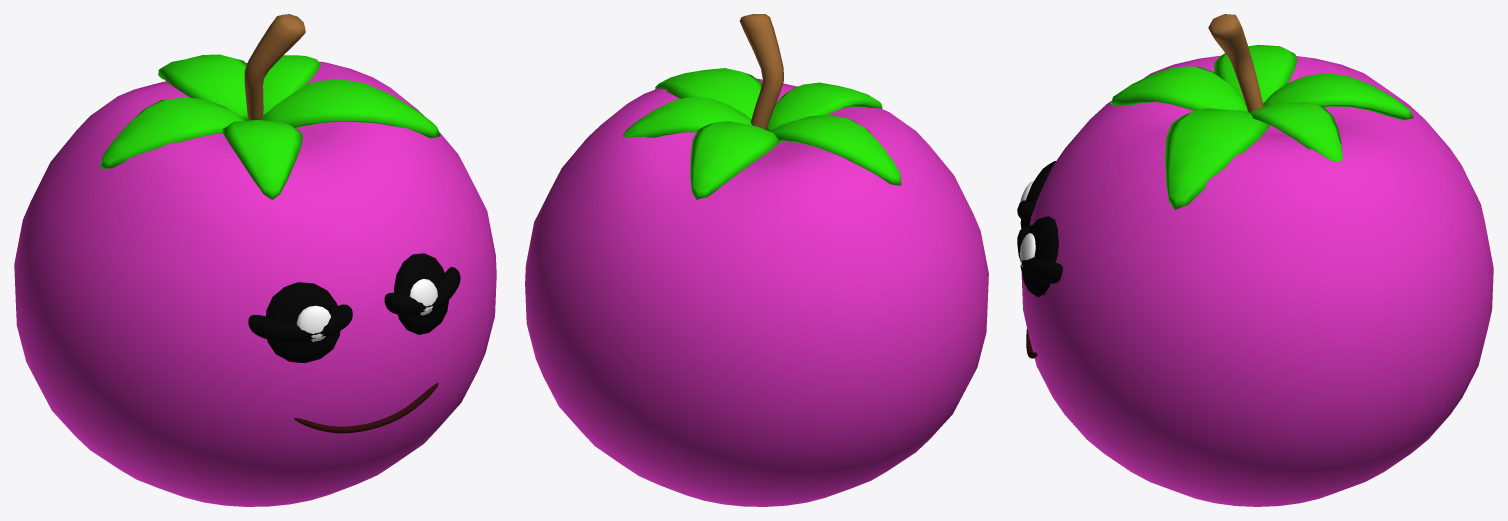
Rendered from Nar.fbx.
3 views of the same model, side by side, from view 1: azimuth 30°, elevation 25°; view 2: azimuth 150°, elevation 25°; view 3: azimuth 270°, elevation 25° (orthographic). The views are drawn at different scales.
Visible parts, largest first — view 1: Nar, Eyes.002, Blink_eyes.002; view 2: Nar; view 3: Nar, Eyes.002, Blink_eyes.002.
Part boxes in pixels (left/top/right/bottom): Nar: left=14, top=14, right=496, bottom=506; Eyes.002: left=266, top=253, right=448, bottom=363; Blink_eyes.002: left=248, top=267, right=460, bottom=342; Nar: left=525, top=14, right=988, bottom=506; Nar: left=1021, top=14, right=1493, bottom=506; Eyes.002: left=1019, top=161, right=1058, bottom=297; Blink_eyes.002: left=1017, top=200, right=1062, bottom=283.
Bounding box in the file's own units: 198 × 212 × 194.
